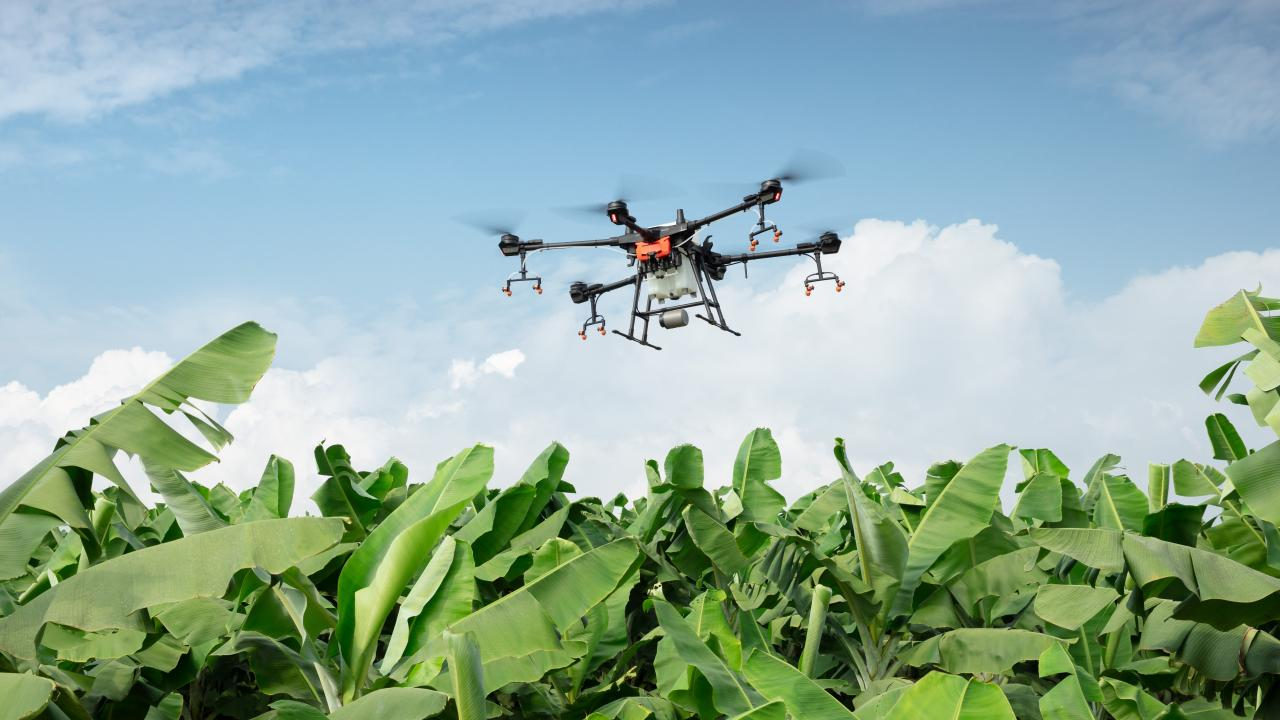Drone: (442, 132, 878, 360)
